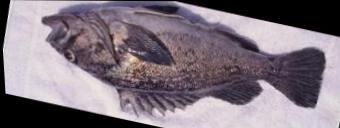fish: (41, 4, 326, 117)
